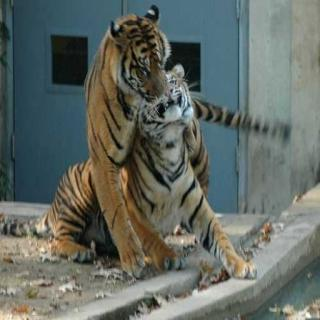Tiger: (52, 0, 206, 273), (58, 73, 234, 284)
